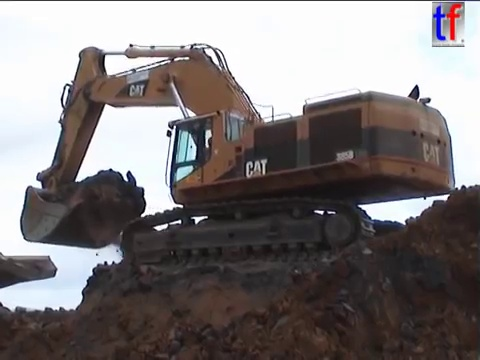excavator: (16, 38, 461, 266)
truck: (1, 249, 60, 292)
